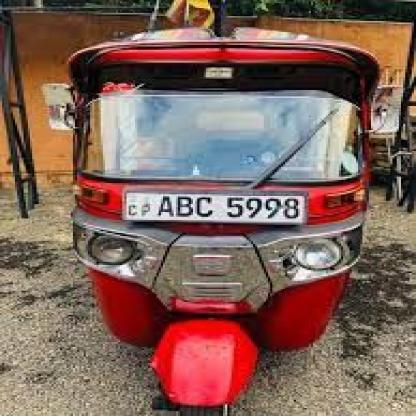number plate: (126, 192, 306, 222)
three wheeler front: (38, 17, 400, 416)
